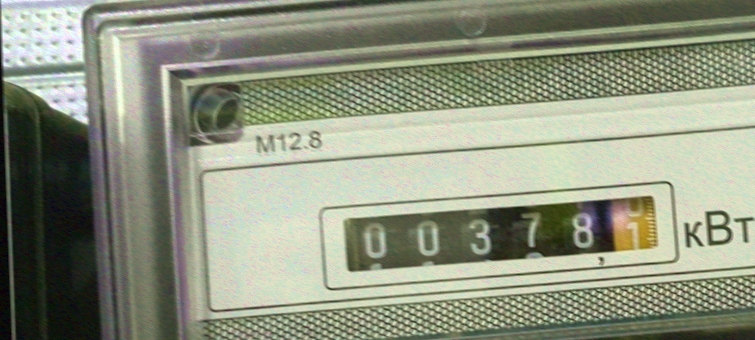0: (361, 218, 390, 259), (414, 217, 441, 257), (622, 195, 645, 217)
1: (622, 218, 643, 250)
3: (465, 215, 493, 257)
7: (518, 209, 543, 248)
8: (569, 209, 595, 250)
screen: (322, 176, 677, 282)
